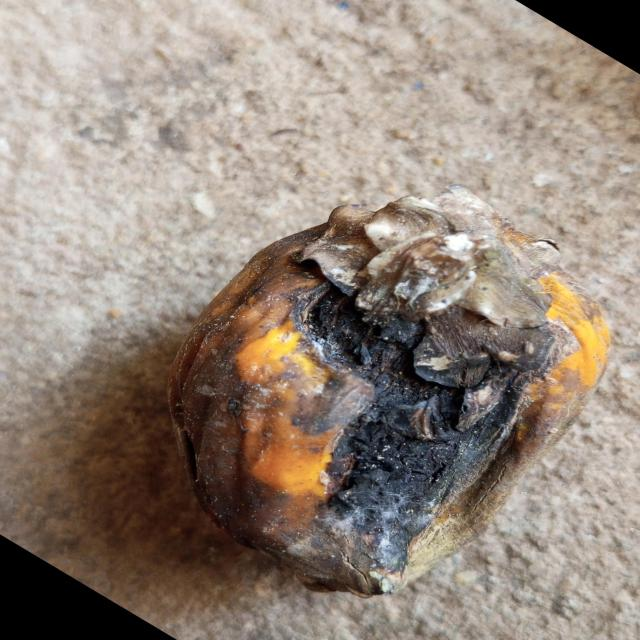damaged: (166, 185, 612, 601)
